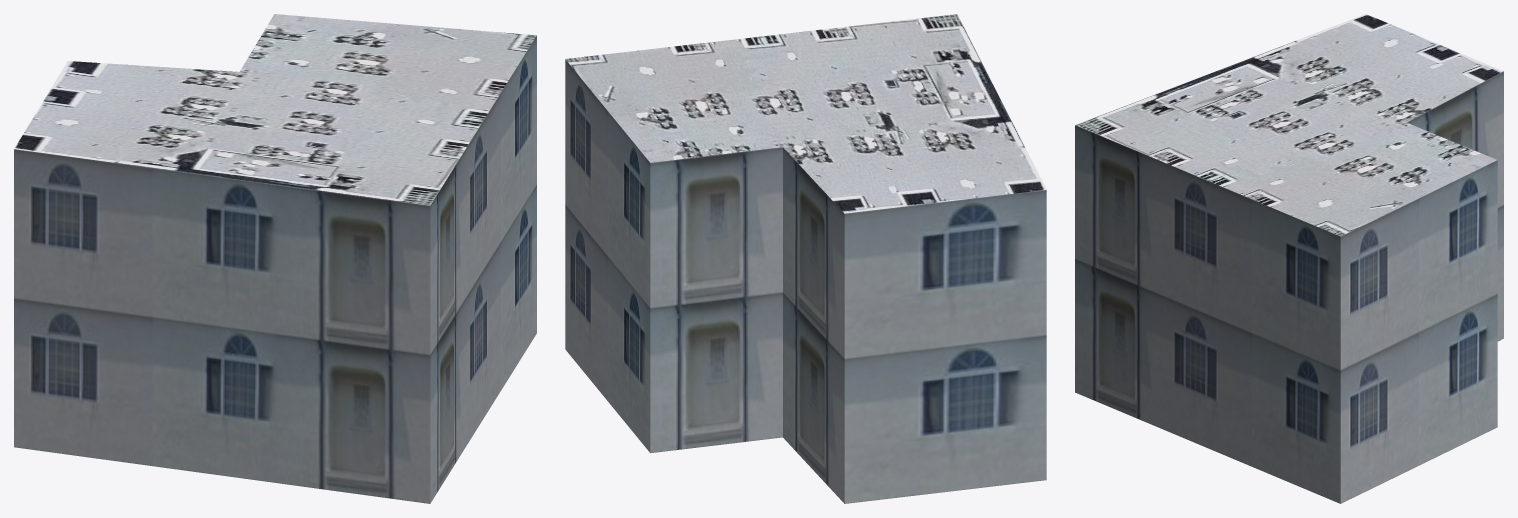
The model's file is ResTex__4539.fbx.
3 renders of one model, left to right at view 1: azimuth 30°, elevation 25°; view 2: azimuth 150°, elevation 25°; view 3: azimuth 270°, elevation 25°, orthographic. The views are drawn at different scales.
Parts seen in each view (by area): view 1: CityEngineMaterial_17_m, CityEngineMaterial_2_m; view 2: CityEngineMaterial_17_m, CityEngineMaterial_2_m; view 3: CityEngineMaterial_17_m, CityEngineMaterial_2_m.
Boxes of the visible parts, x1,y1,x2,y2 form: CityEngineMaterial_17_m: (14,35,536,503); CityEngineMaterial_2_m: (14,14,536,205); CityEngineMaterial_17_m: (565,59,1046,503); CityEngineMaterial_2_m: (565,14,1046,213); CityEngineMaterial_17_m: (1075,71,1503,503); CityEngineMaterial_2_m: (1075,14,1503,236).
Bounding box in the file's own units: 10.71 × 6 × 8.72.
2 materials, 2 textured.
